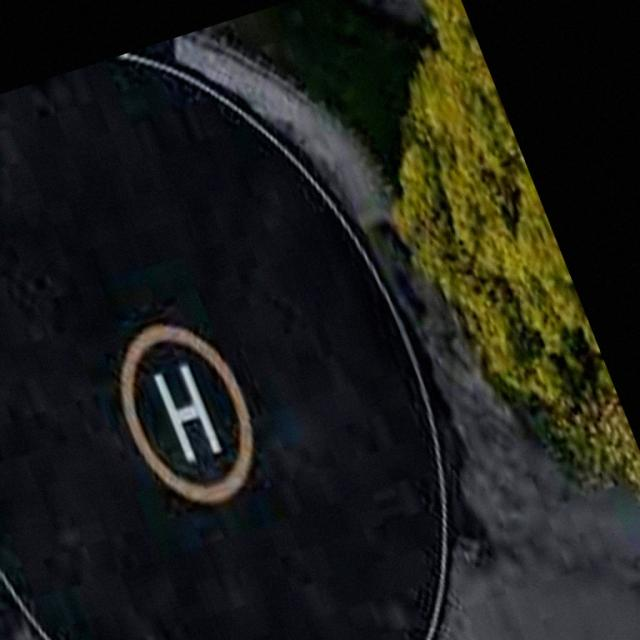helipad: (116, 319, 256, 509)
